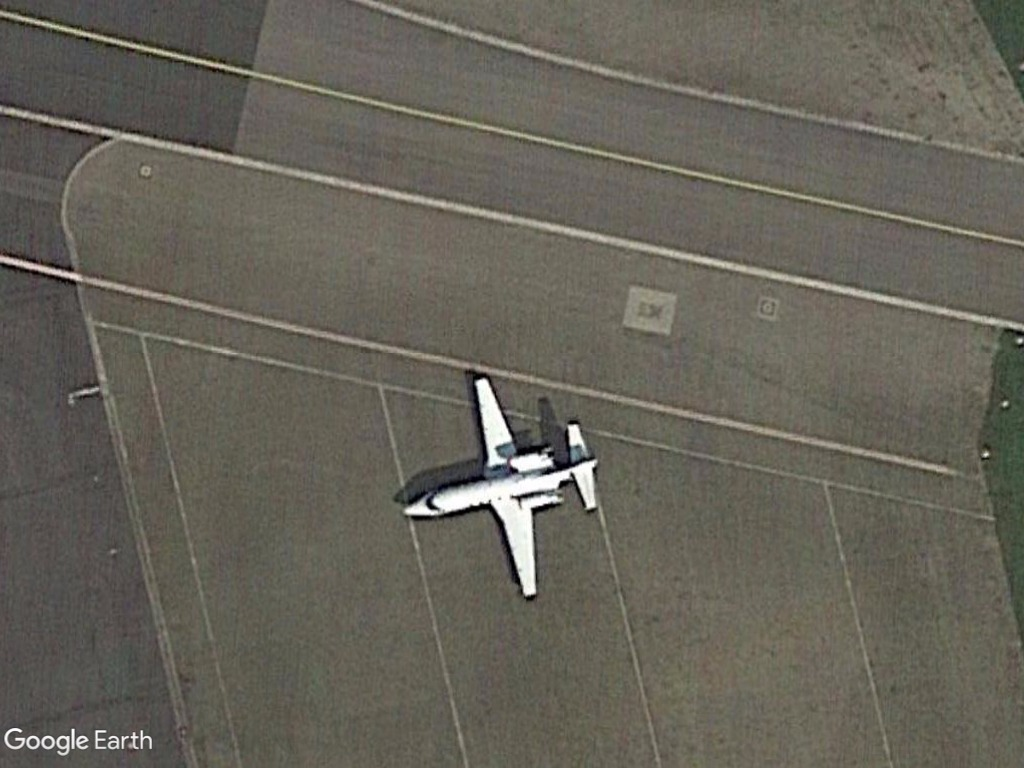chartered: (396, 364, 612, 606)
